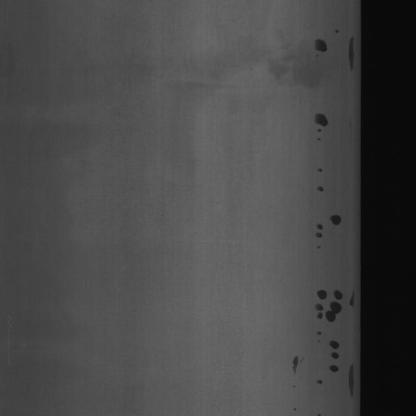oil_spot: (289, 273, 358, 400), (312, 195, 346, 240), (307, 98, 332, 154), (340, 32, 357, 88), (315, 27, 332, 68)
